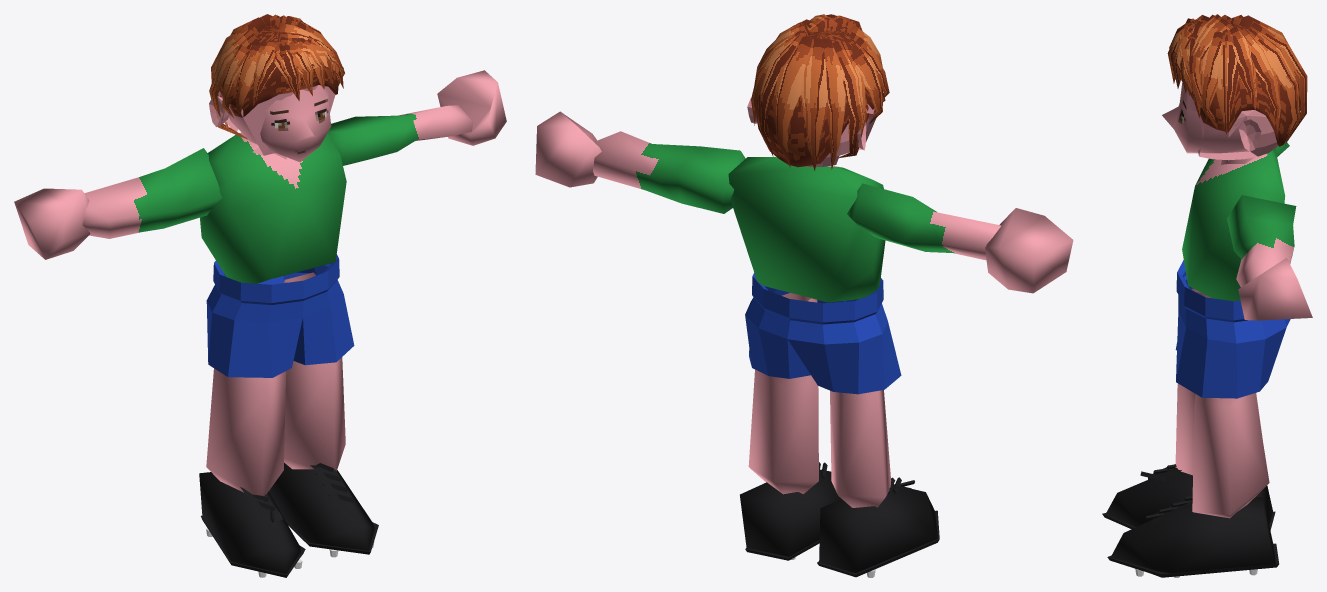
File: 01-liso-repartido_ruivo.glb
3 renders of one model, left to right at view 1: azimuth 30°, elevation 25°; view 2: azimuth 150°, elevation 25°; view 3: azimuth 270°, elevation 25°, orthographic. The views are drawn at different scales.
Parts seen in each view (by area): view 1: Camisa_Tronco, Bermuda, Cabelo, Perna.R, Braco.R, Perna.L, Chuteira.R, Chuteira.L, Braco.L, Mao.R, Cabeca, Mao.L (+3 smaller); view 2: Camisa_Tronco, Cabelo, Bermuda, Perna.L, Braco.L, Chuteira.R, Perna.R, Braco.R, Mao.R, Chuteira.L, Mao.L, Chuteira_Sola.R; view 3: Cabelo, Bermuda, Chuteira.L, Camisa_Tronco, Perna.L, Braco.L, Mao.L, Chuteira.R, Cabeca, Perna.R, Cranio, Chuteira_Sola.L (+3 smaller).
Part boxes in pixels (x1,y1,x2,y2): Camisa_Tronco: [200, 132, 346, 283]; Bermuda: [206, 254, 354, 377]; Cabelo: [209, 14, 344, 139]; Perna.R: [206, 368, 286, 500]; Braco.R: [82, 148, 222, 238]; Perna.L: [284, 272, 345, 471]; Chuteira.R: [199, 472, 303, 573]; Chuteira.L: [269, 462, 374, 550]; Braco.L: [328, 105, 473, 165]; Mao.R: [14, 188, 90, 259]; Cabeca: [221, 85, 331, 162]; Mao.L: [437, 70, 506, 145]; Camisa_Tronco: [728, 157, 885, 302]; Cabelo: [751, 14, 889, 170]; Bermuda: [745, 273, 901, 394]; Perna.L: [748, 293, 818, 494]; Braco.L: [593, 131, 745, 213]; Chuteira.R: [819, 484, 937, 572]; Perna.R: [830, 390, 891, 507]; Braco.R: [847, 183, 1000, 260]; Mao.R: [985, 208, 1073, 293]; Chuteira.L: [740, 469, 841, 556]; Mao.L: [535, 111, 601, 187]; Chuteira_Sola.R: [817, 510, 939, 577]; Cabelo: [1167, 14, 1307, 146]; Bermuda: [1175, 260, 1290, 398]; Chuteira.L: [1111, 497, 1276, 577]; Camisa_Tronco: [1182, 149, 1285, 301]; Perna.L: [1192, 393, 1269, 518]; Braco.L: [1227, 195, 1296, 287]; Mao.L: [1238, 258, 1312, 320]; Chuteira.R: [1106, 467, 1272, 526]; Cabeca: [1162, 82, 1248, 153]; Perna.R: [1175, 288, 1262, 475]; Cranio: [1198, 110, 1277, 160]; Chuteira_Sola.L: [1107, 543, 1279, 577].
Bounding box in the file's own units: 0.4523 × 0.4524 × 0.1617.
3 materials, 3 textured.
